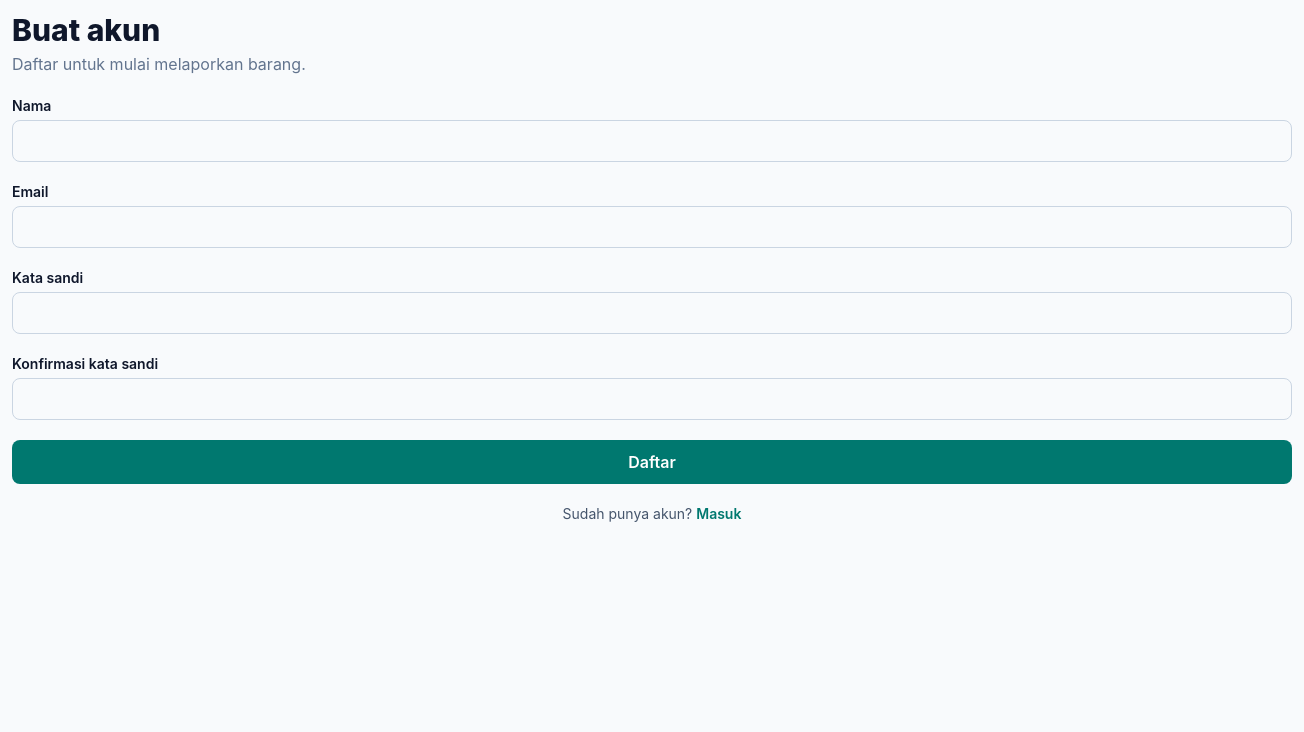
Scenario: RegisterPage › menampilkan semua error validasi pada form kosong
The image size is (1304, 732).
Click the button "Daftar" at (652, 462), box [12, 440, 1292, 484]
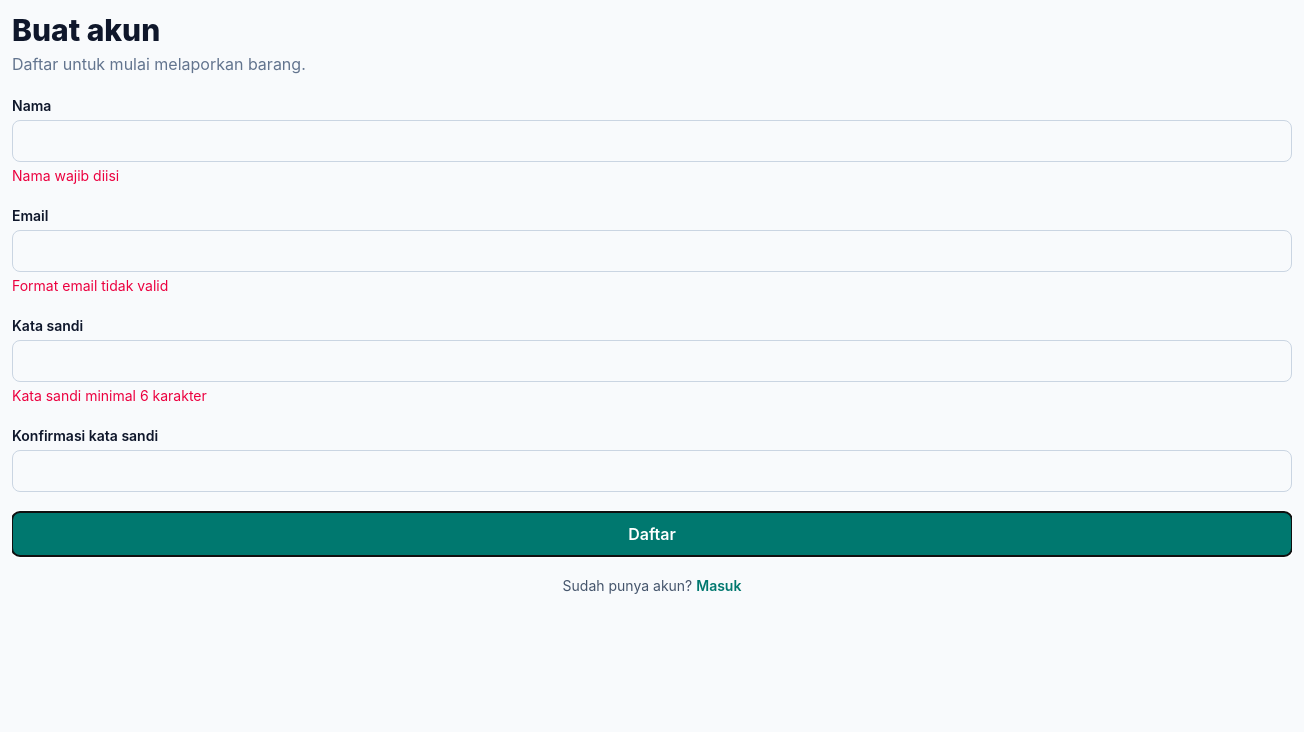
Result: the text "Nama wajib diisi" is shown at [12, 167, 119, 184]
Result: the text "Format email tidak valid" is shown at [12, 277, 168, 294]
Result: the text "Kata sandi minimal 6 karakter" is shown at [12, 387, 207, 404]
